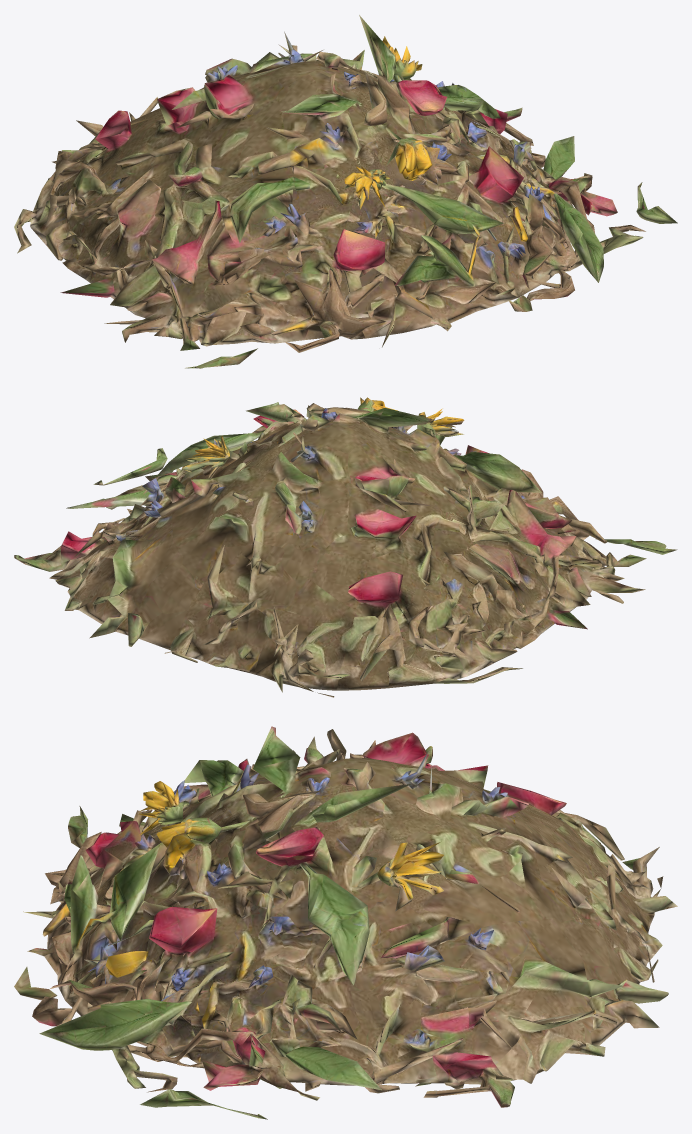
File: folhas.glb
The picture shows the model from 3 angles, top to bottom: view 1: azimuth 30°, elevation 25°; view 2: azimuth 150°, elevation 25°; view 3: azimuth 270°, elevation 25°; orthographic projection. The views are drawn at different scales.
Parts seen in each view (by area): view 1: folhas; view 2: folhas; view 3: folhas.
Boxes of the visible parts, x1,y1,x2,y2 form: folhas: (14, 15, 677, 368); folhas: (14, 397, 677, 697); folhas: (14, 726, 677, 1119).
Bounding box in the file's own units: 1.79 × 0.5625 × 1.58.
1 material, 1 textured.
